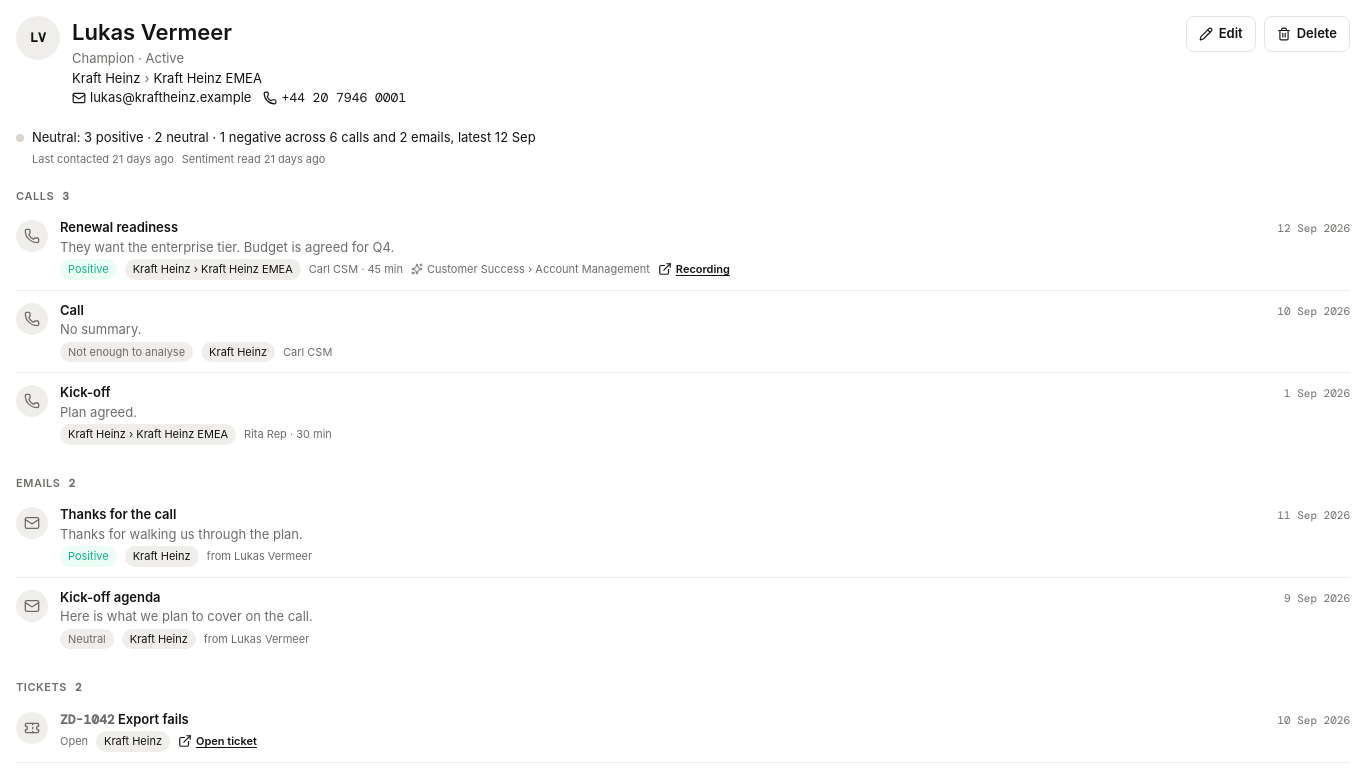
ContactProfile (spec 2026-09-28 §3) › after a save the person stays on screen while they reload (no skeleton), and focus is back on Edit
Click the button "Edit": [1221, 34] box [1186,16,1256,52]
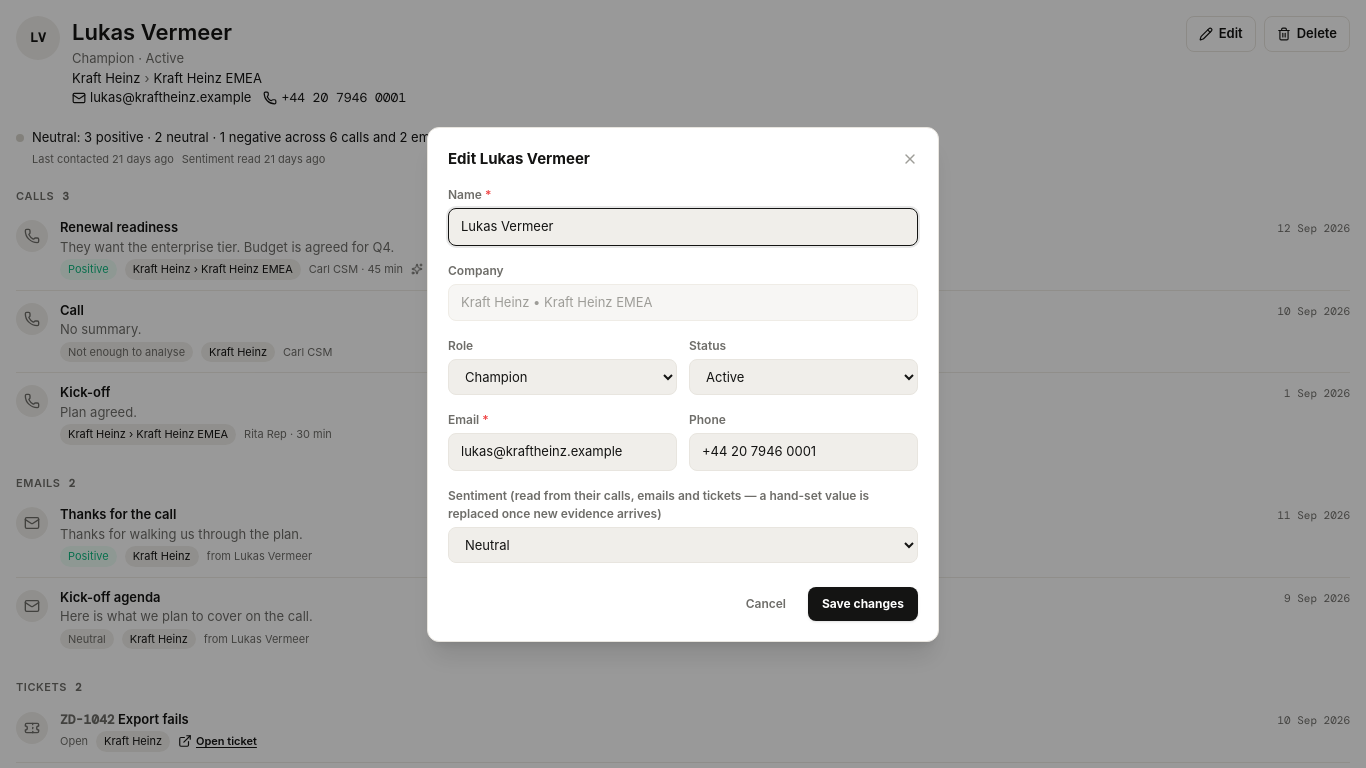
Select "Negative" in the dropdown labelled "Sentiment (": [683, 544] box [448,526,918,562]
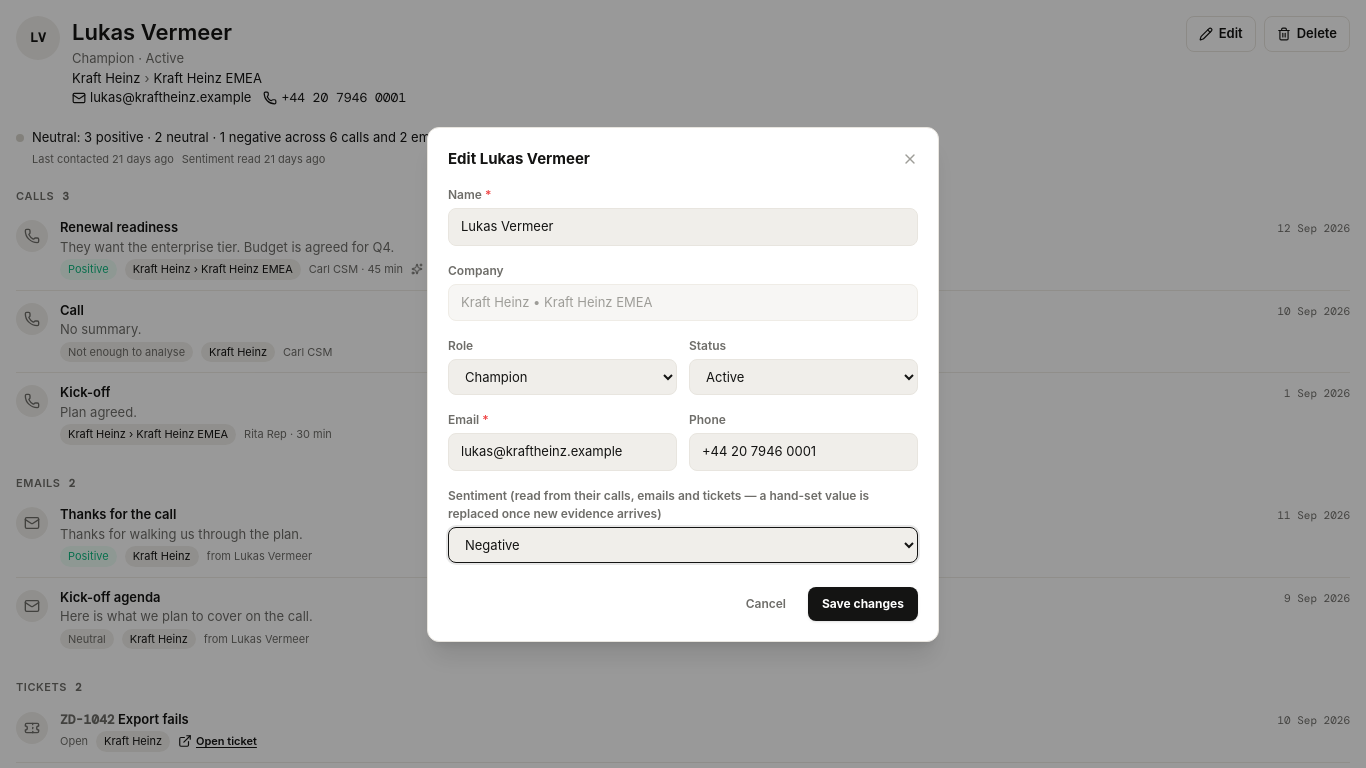
Click the button "Save changes": [863, 604] box [808,586,918,620]
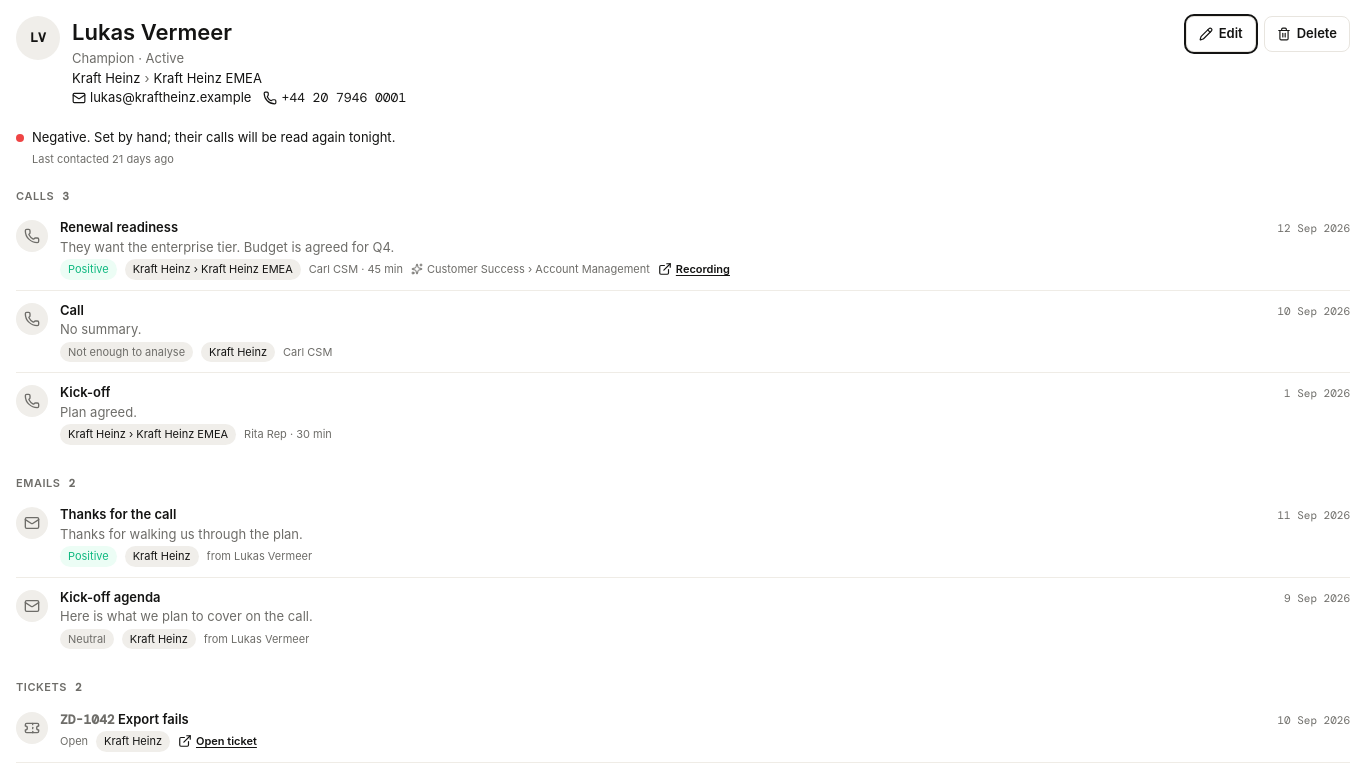
Expected: the element named "Sentiment" shows "Negative", [32,128,395,144]
